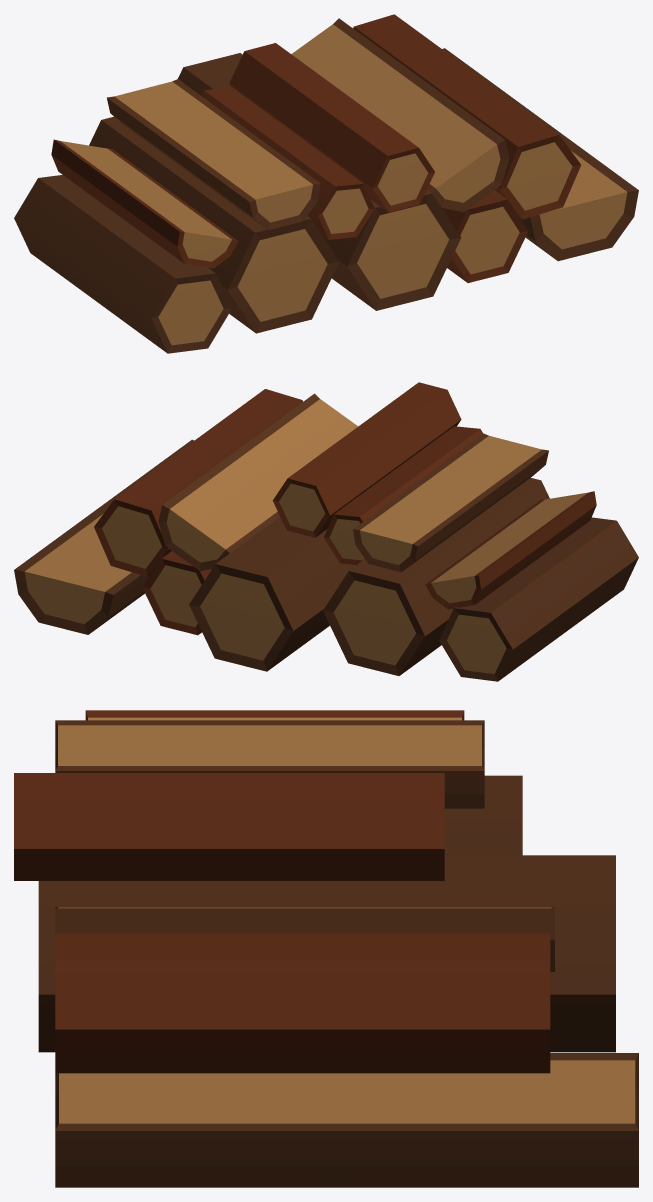
Rendered from Prop_Wood_Pile_01.obj.
3 views of the same model, one above another, from view 1: azimuth 30°, elevation 25°; view 2: azimuth 150°, elevation 25°; view 3: azimuth 270°, elevation 25° (orthographic). The views are drawn at different scales.
Visible parts, largest first — view 1: Prop_Wood_Pile_01; view 2: Prop_Wood_Pile_01; view 3: Prop_Wood_Pile_01.
Boxes of the visible parts, box(x1,y1,x2,y2) form: Prop_Wood_Pile_01: box(14, 14, 638, 353); Prop_Wood_Pile_01: box(14, 382, 638, 681); Prop_Wood_Pile_01: box(14, 710, 638, 1187).
Bounding box in the file's own units: 0.8696 × 0.2773 × 0.6425.
1 material, 1 textured.
